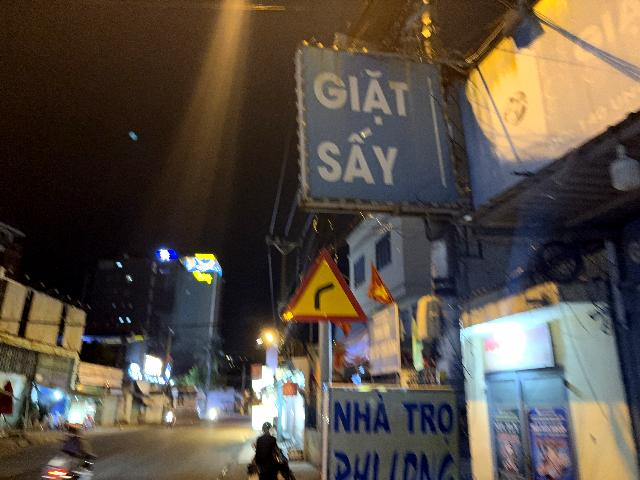cho-ngoat-nguy-hiem-ben-phai: (282, 244, 368, 323)
